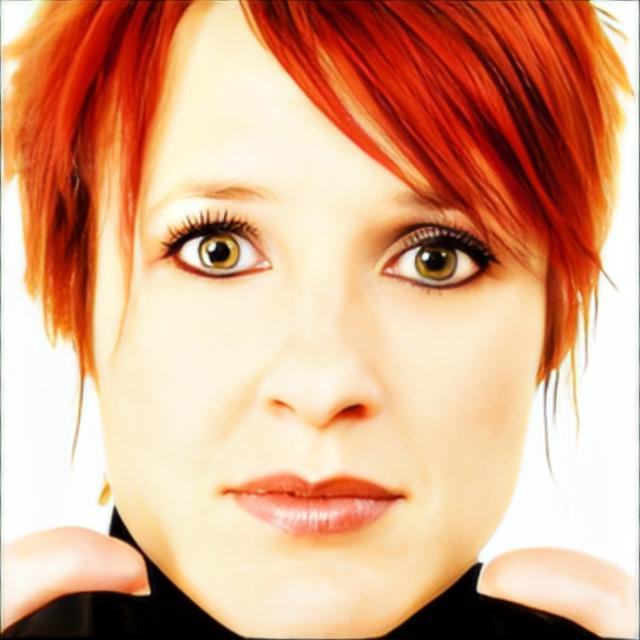fear: (93, 0, 547, 638)
